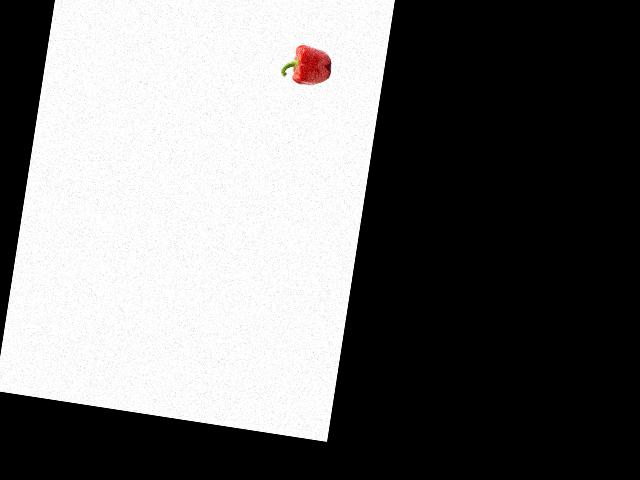bell_pepper: (278, 39, 336, 91)
